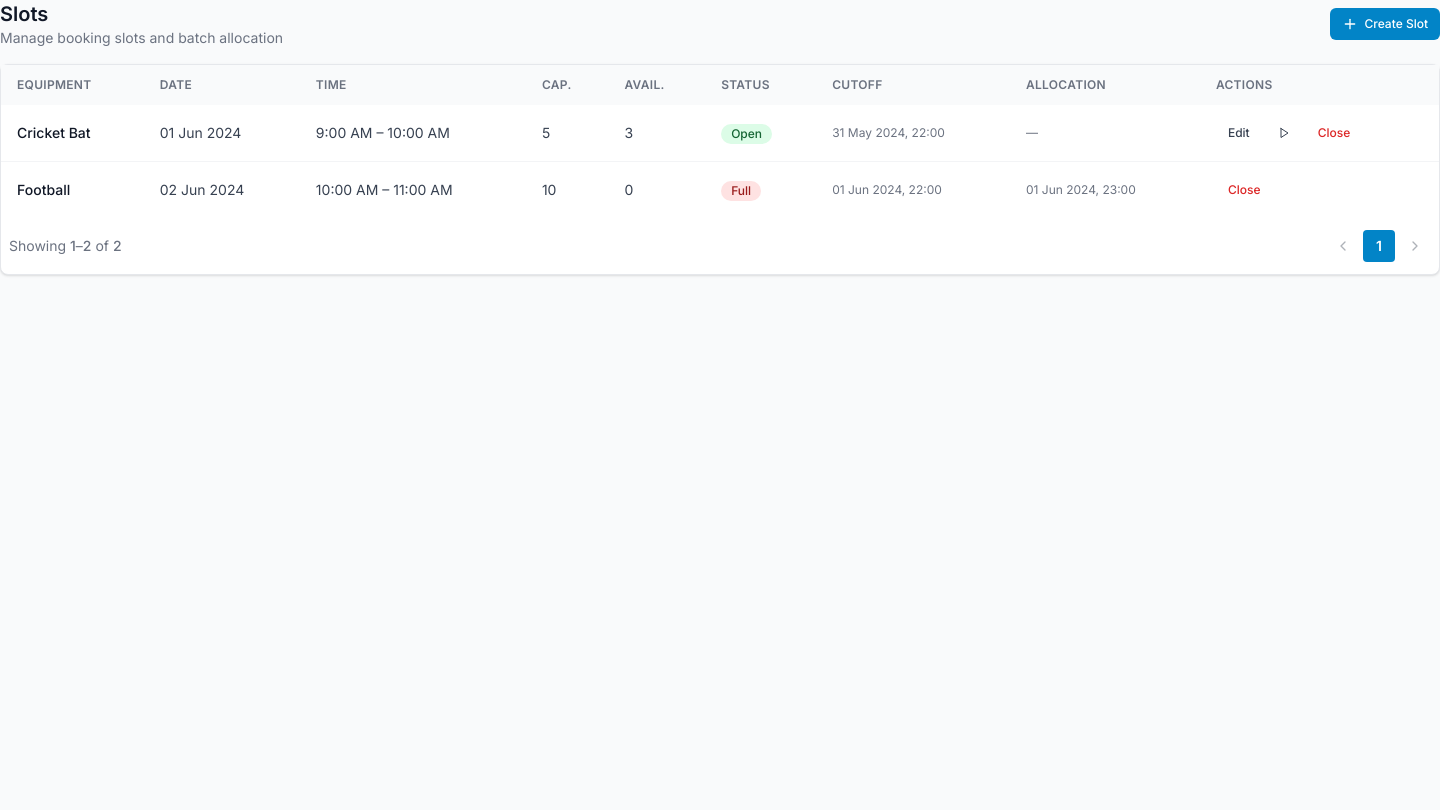
Test: SlotsPage › opens create slot dialog when Create Slot is clicked
Expected: the text "Cricket Bat" is shown, 1,105 -> 144,162
Click the button "Create Slot" at (1385, 24), box 1330,8 -> 1439,40
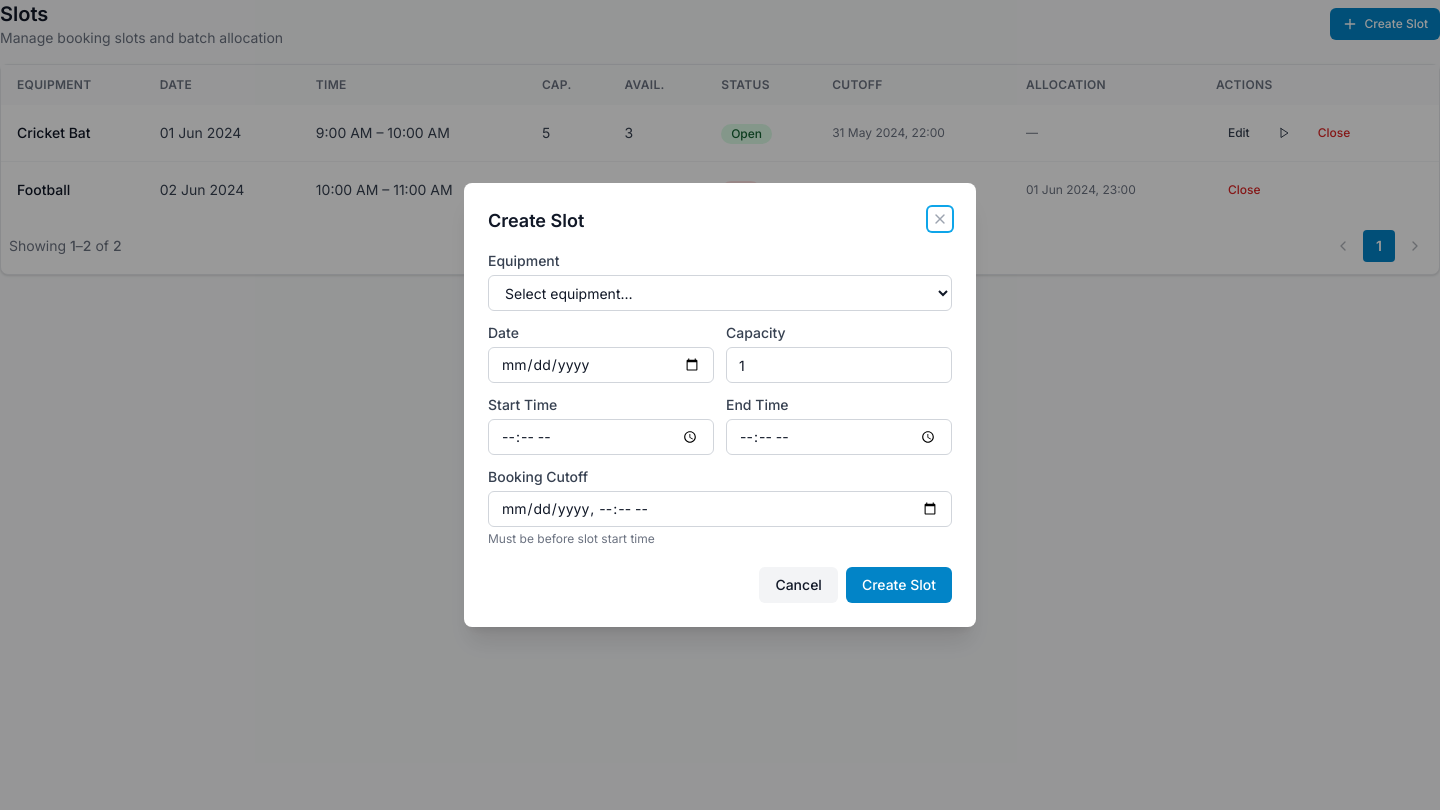
Now the text "Booking Cutoff" is shown, box 488,468 -> 588,485
